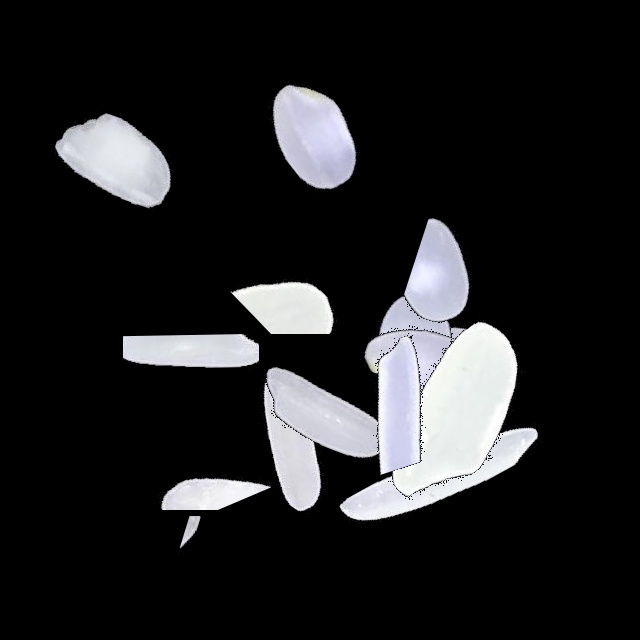Broken: (19, 72, 182, 322), (313, 266, 466, 516), (357, 214, 607, 360), (314, 246, 564, 391), (123, 278, 259, 528), (81, 399, 331, 510), (168, 234, 418, 334), (94, 516, 344, 597)
Full: (313, 237, 563, 487), (165, 316, 415, 566), (296, 229, 546, 479), (200, 292, 450, 542), (318, 351, 568, 601), (327, 287, 577, 537), (188, 12, 438, 262)
